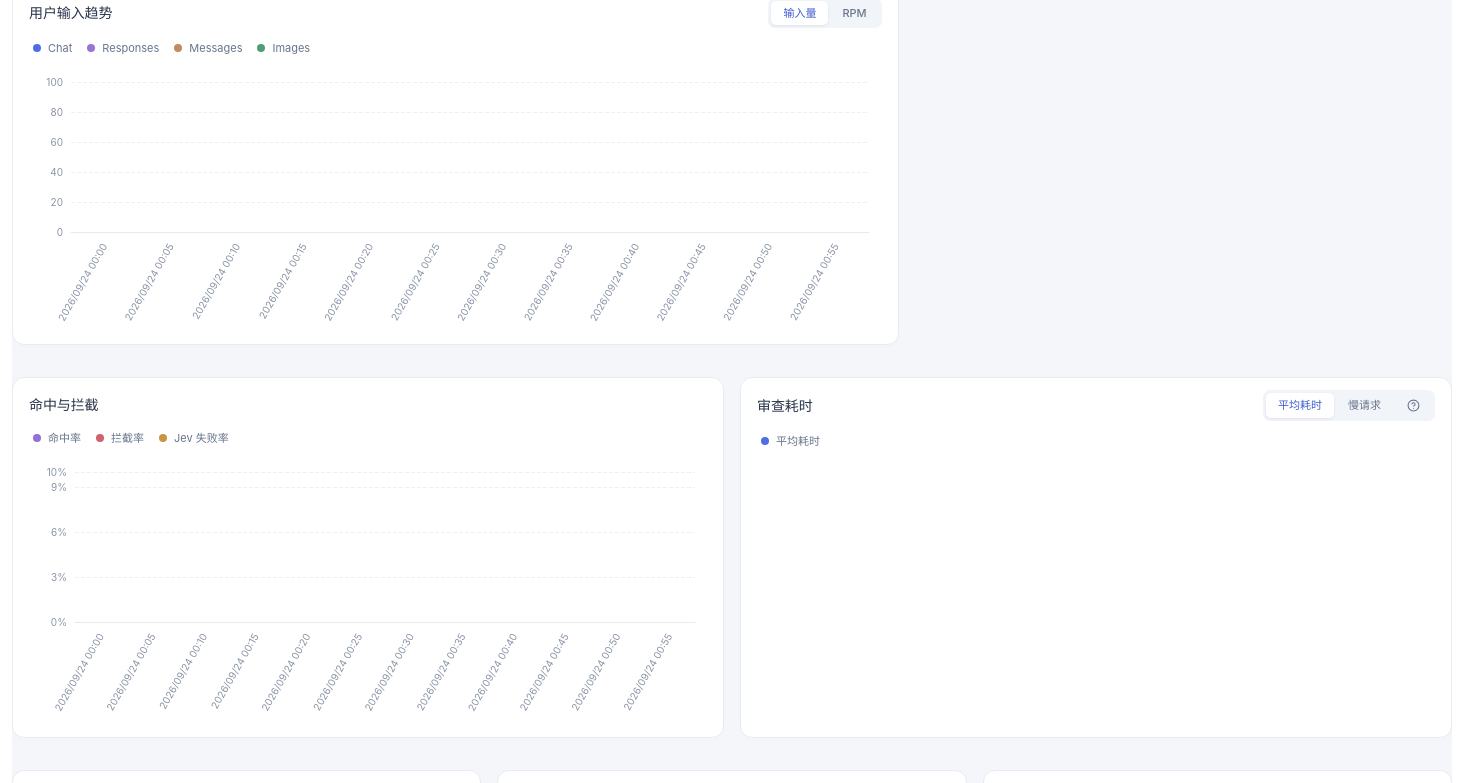
Scenario: starts with one average latency line and lets the operator switch to slow requests
(page scrolled)
Expected: the button "慢请求耗时" is not shown
Click the button "慢请求". click: x=1364, y=405
box: [1336, 393, 1393, 418]
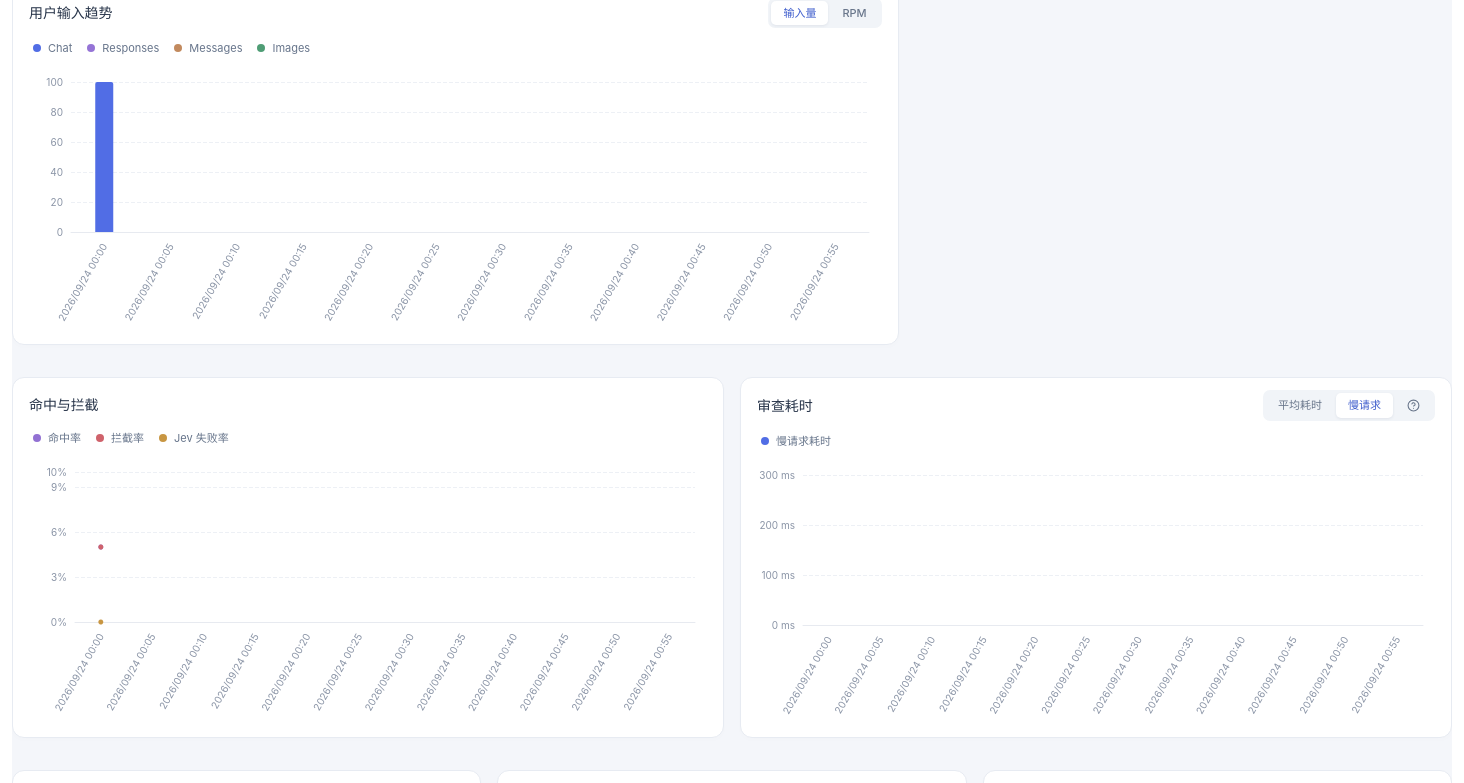
Expected: the button "慢请求耗时" is shown, [761, 430, 831, 450]
Click the button "平均耗时". click: x=1300, y=405
box: [1266, 393, 1334, 418]
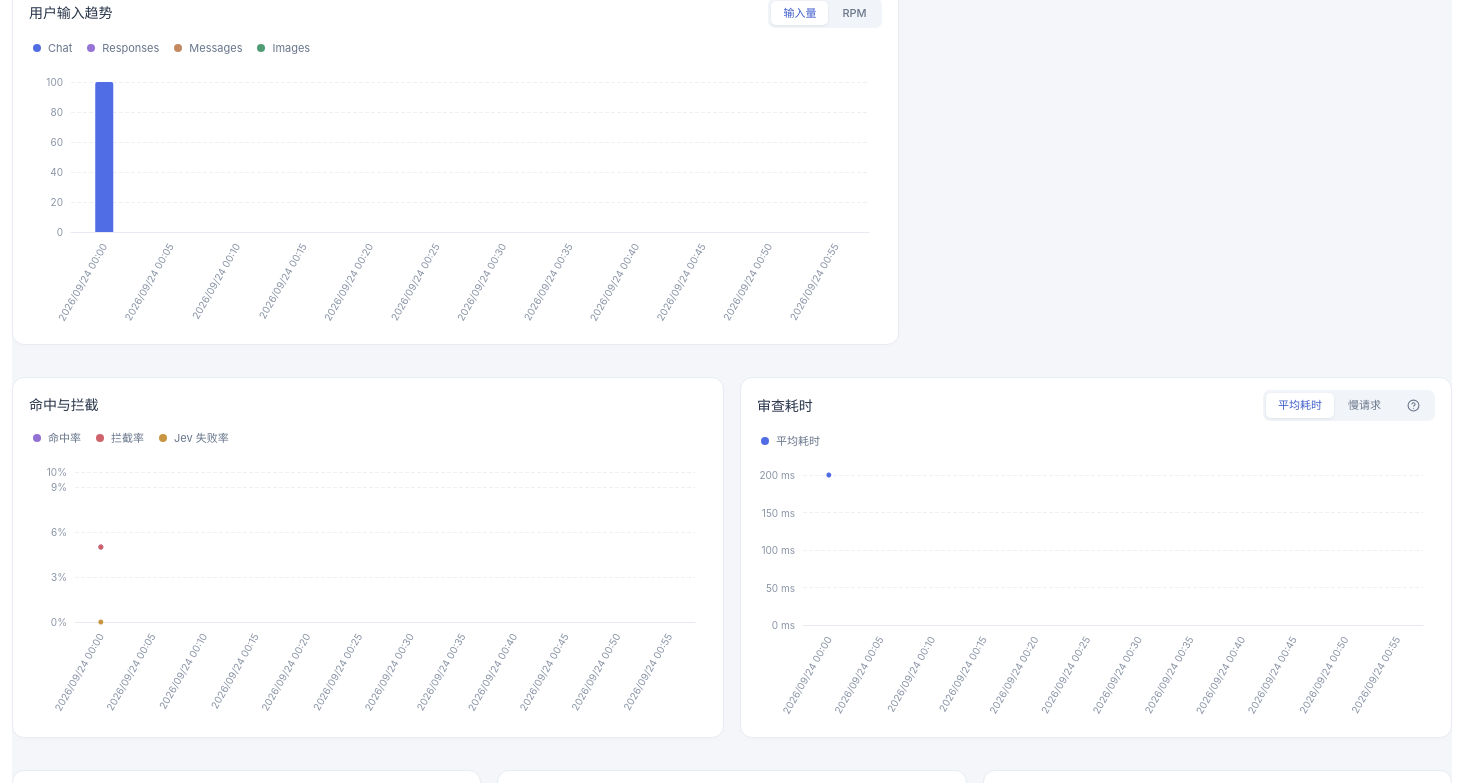
Expected: the button "慢请求耗时" is gone
